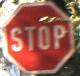Stop sign: (0, 0, 79, 75)
